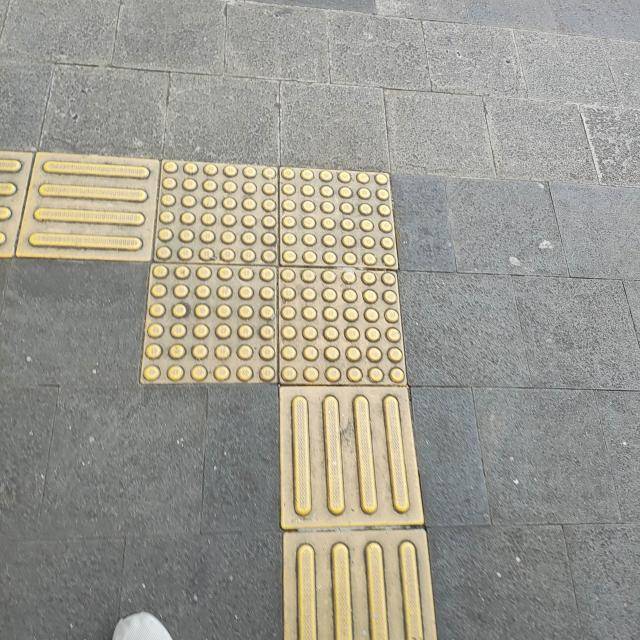kiri: (0, 79, 497, 529)
